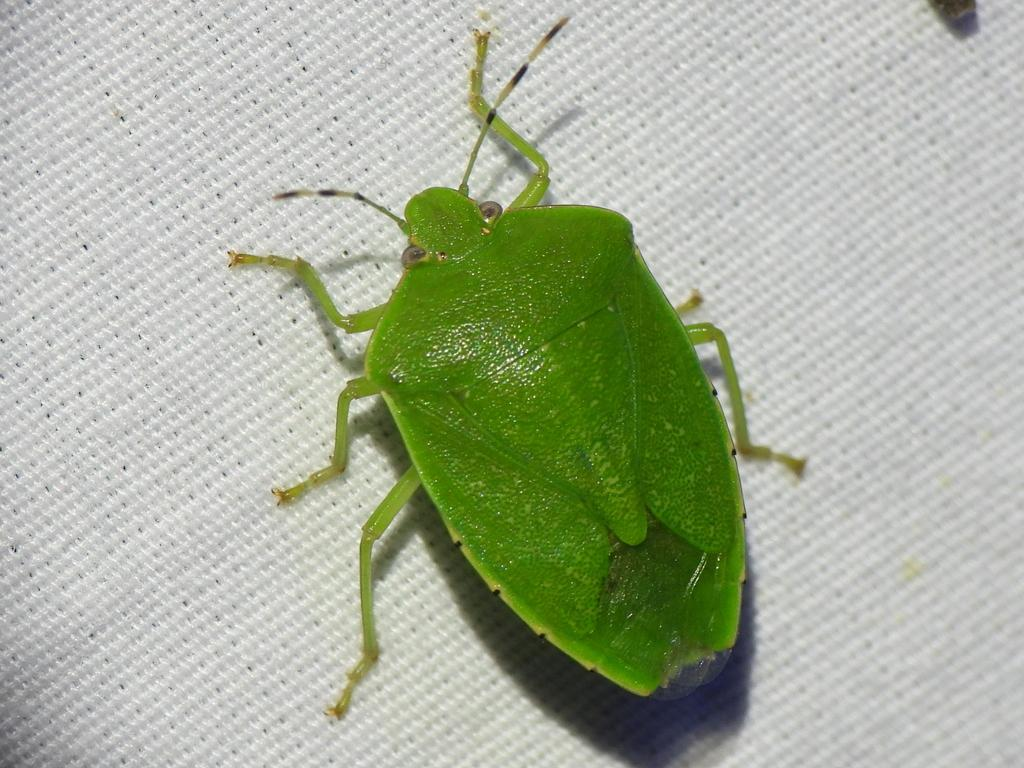stink_bugs: (173, 1, 905, 768)
